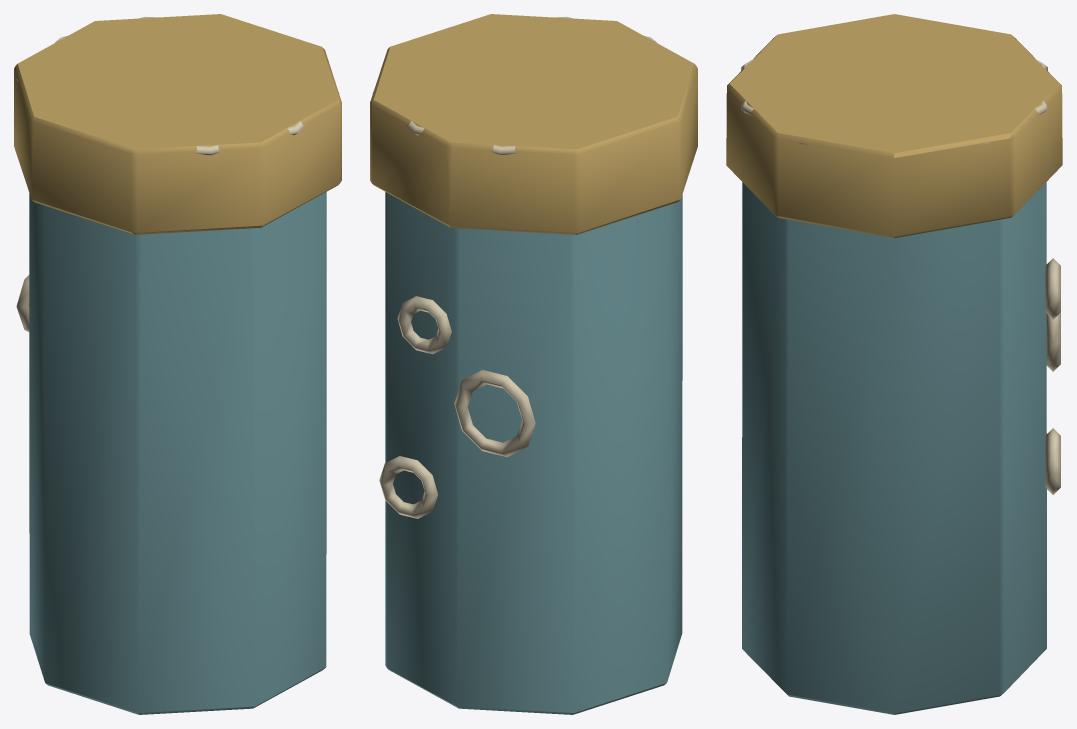
The model's file is bubbles_low.glb.
The picture shows the model from 3 angles, left to right: view 1: azimuth 30°, elevation 25°; view 2: azimuth 150°, elevation 25°; view 3: azimuth 270°, elevation 25°; orthographic projection.
Size of the model in its own units: 0.1293 by 0.241 by 0.1293.
